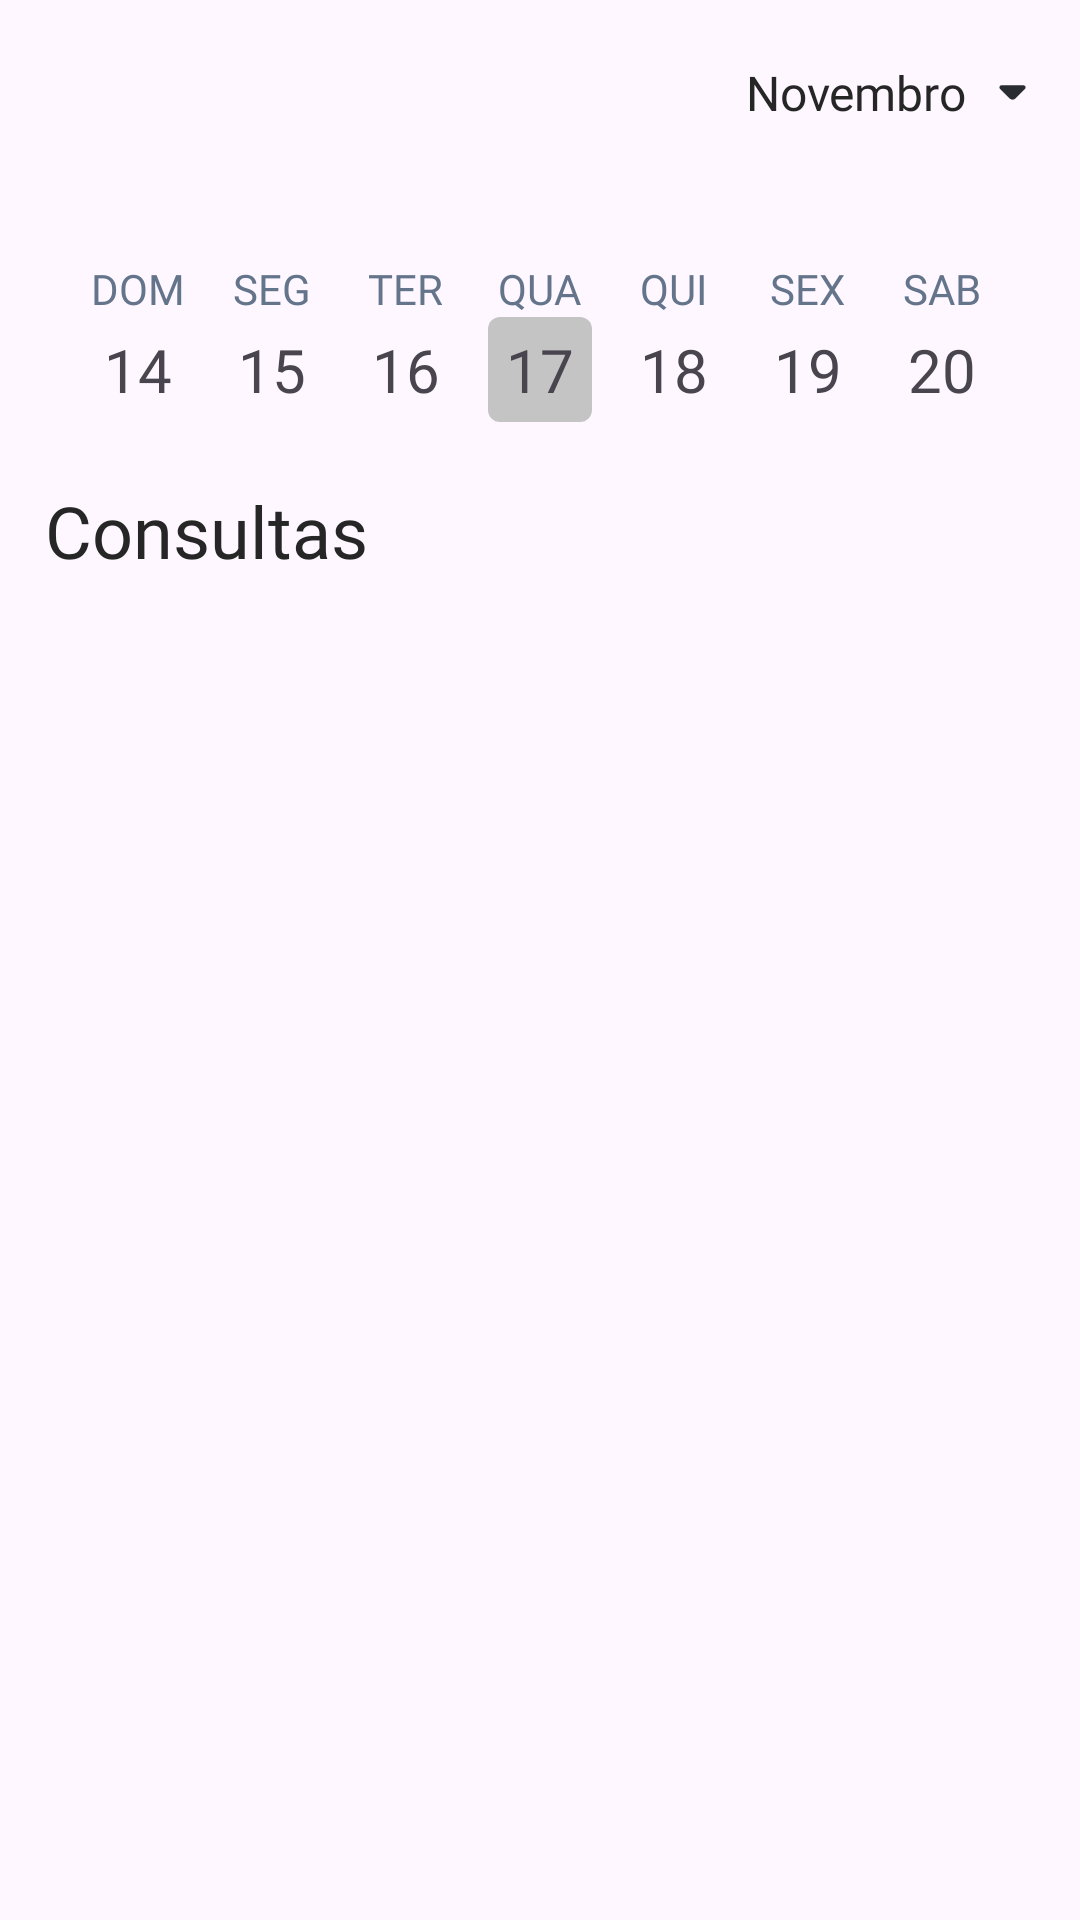

Locate icon controls on the screen. Image size 1080w x 1920h, boxes as (x1, y1, x2, y2).
arrow down: (999, 85, 1026, 100)
